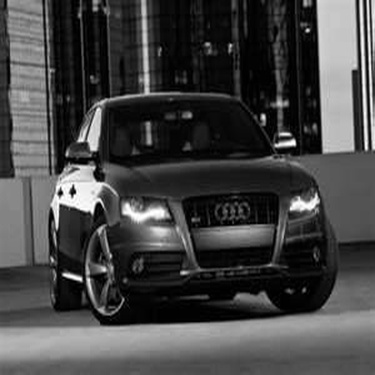car: (34, 89, 341, 323)
